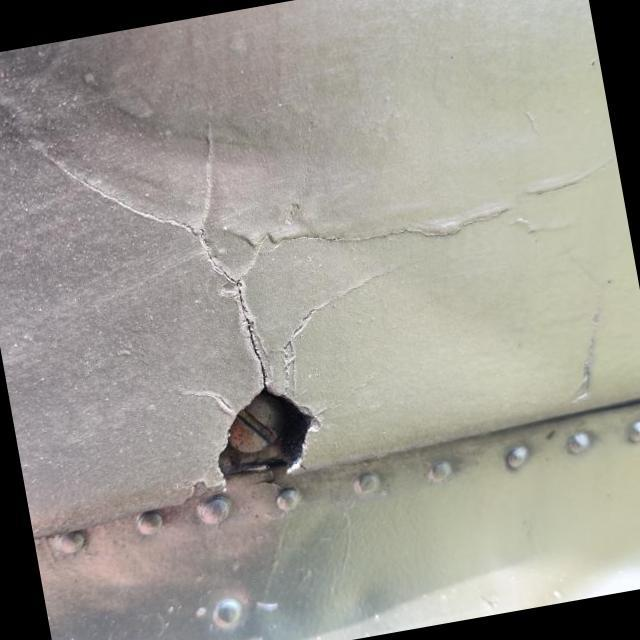Rupture: (64, 114, 398, 531)
